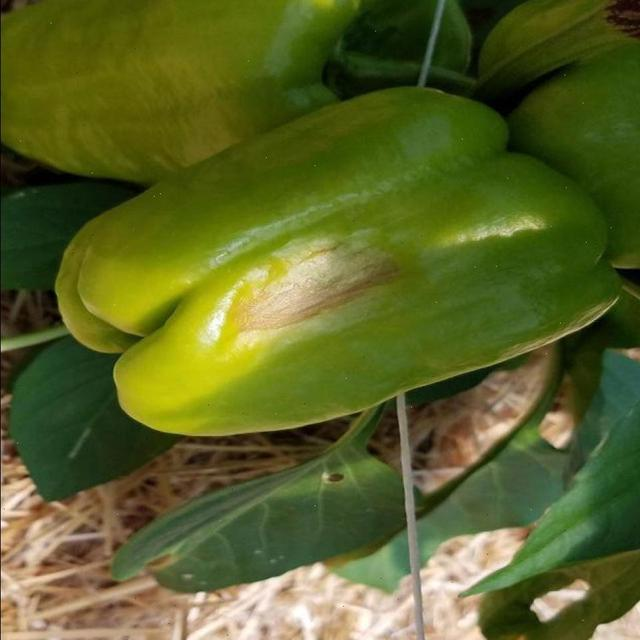Sunscald Fruit: (154, 150, 272, 225)
